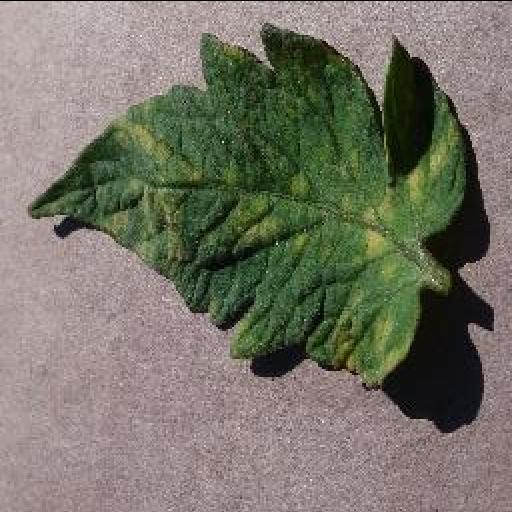disease_tomato: (26, 20, 470, 388)
